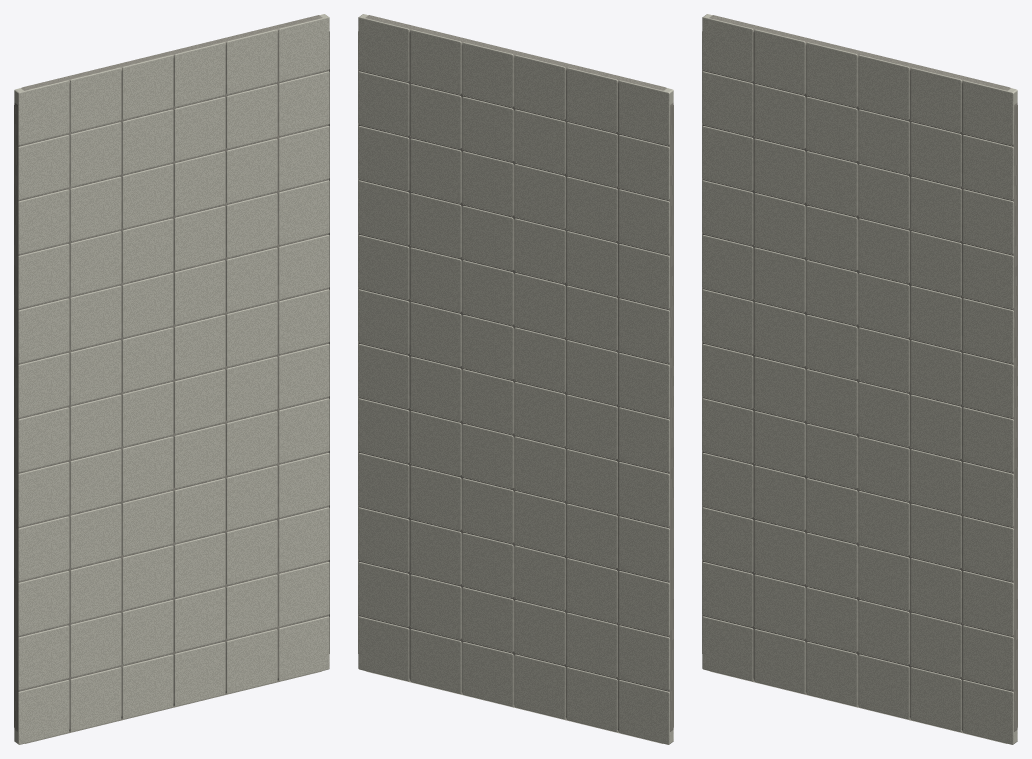
Rendered from tilewall.glb.
3 renders of one model, left to right at view 1: azimuth 30°, elevation 25°; view 2: azimuth 150°, elevation 25°; view 3: azimuth 330°, elevation 25°, orthographic.
Parts seen in each view (by area): view 1: tile (×72), grout; view 2: tile (×72), grout; view 3: tile (×72), grout.
Part boxes in pixels (left/top/right/bottom): tile (×72): left=14, top=14, right=329, bottom=744; grout: left=14, top=15, right=329, bottom=743; tile (×72): left=358, top=14, right=673, bottom=744; grout: left=358, top=15, right=673, bottom=743; tile (×72): left=702, top=14, right=1017, bottom=744; grout: left=702, top=15, right=1017, bottom=743.
Bounding box in the file's own units: 1.2 × 2.4 × 0.03.
Materials: 2 (2 with a texture image).
